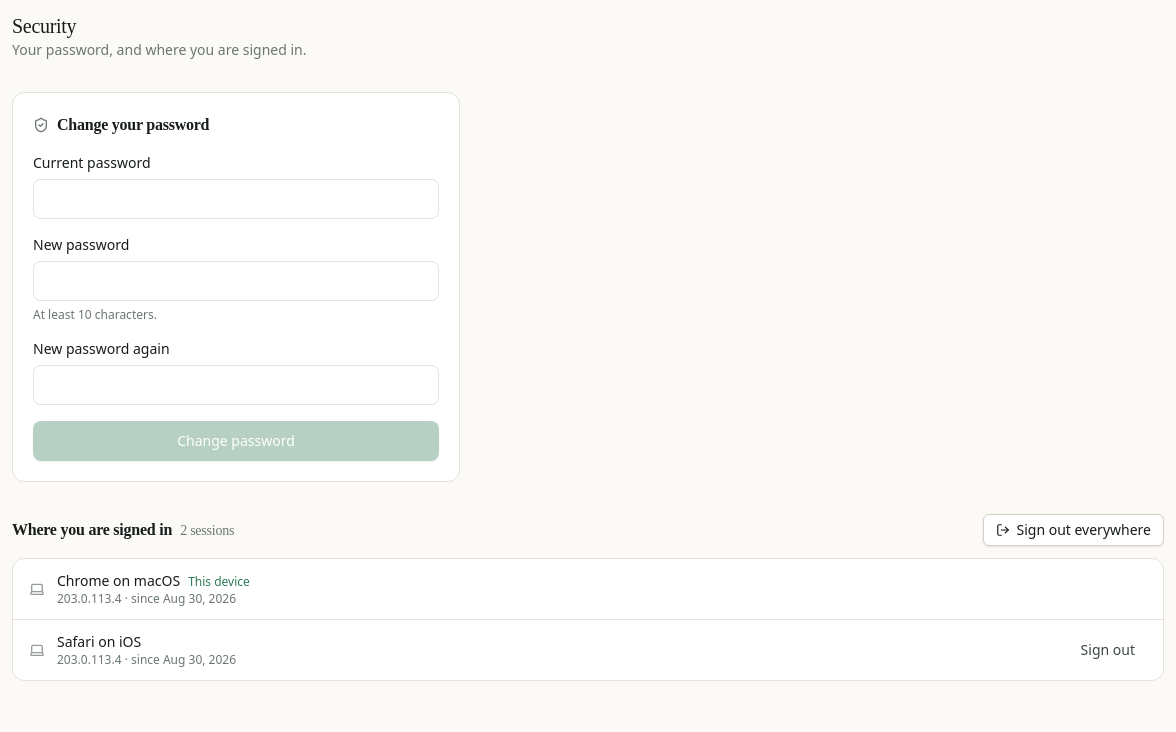
Scenario: SecurityPage › catches a mistyped confirmation before the server does
This screenshot has width=1176, height=732.
Step 1. Type "old-password" into the password field labelled "Current password" → (236,199), box [33,179,439,219]
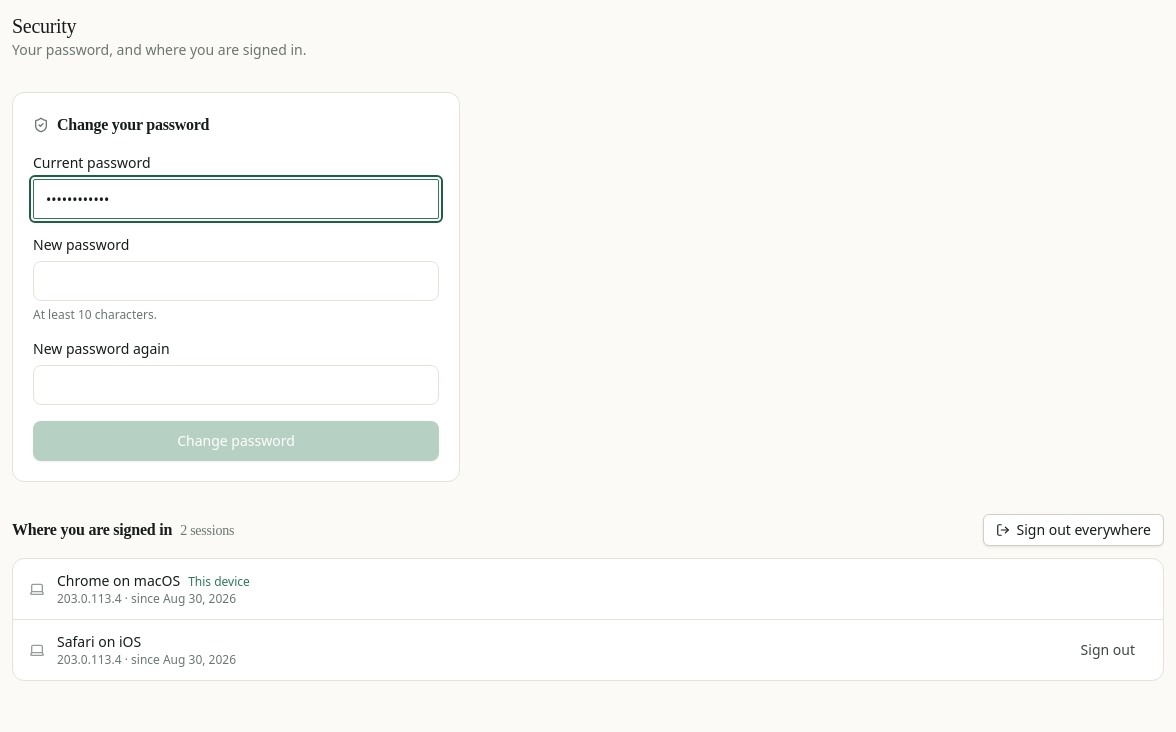
Step 2. Type "a-long-enough-one" into the password field labelled "New password" → (236,281), box [33,261,439,301]
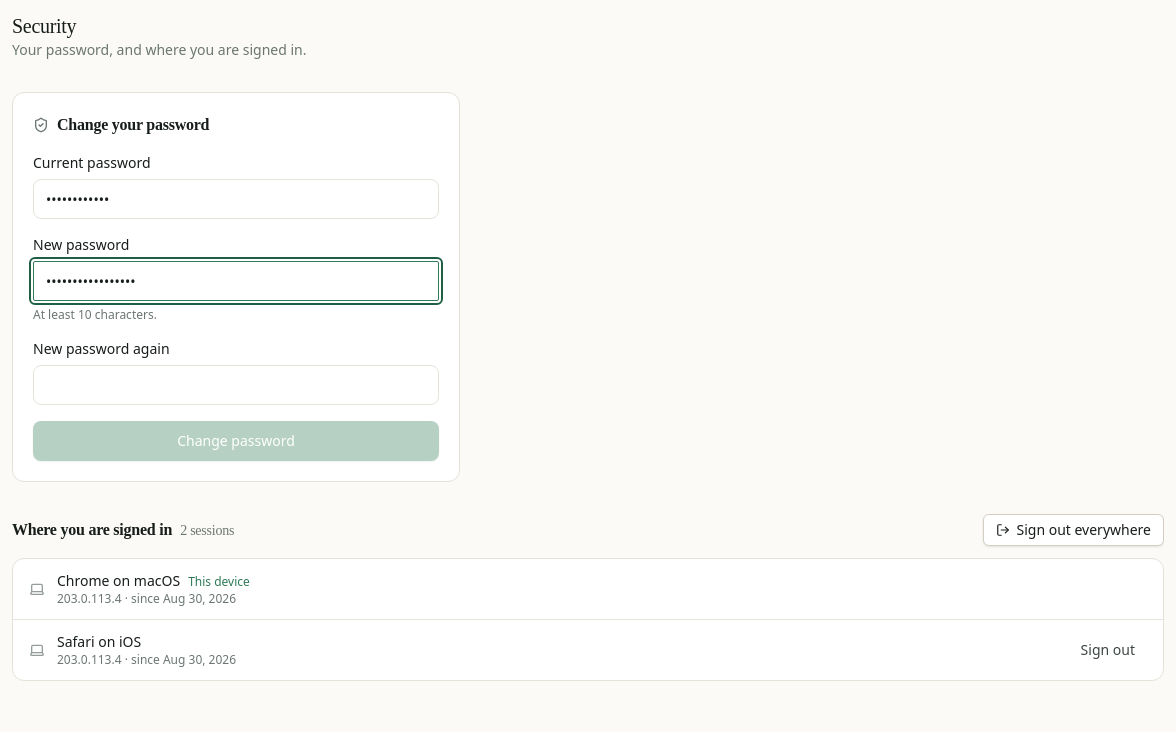
Step 3. Type "a-long-enough-two" into the password field labelled "New password again" → (236,385), box [33,365,439,405]
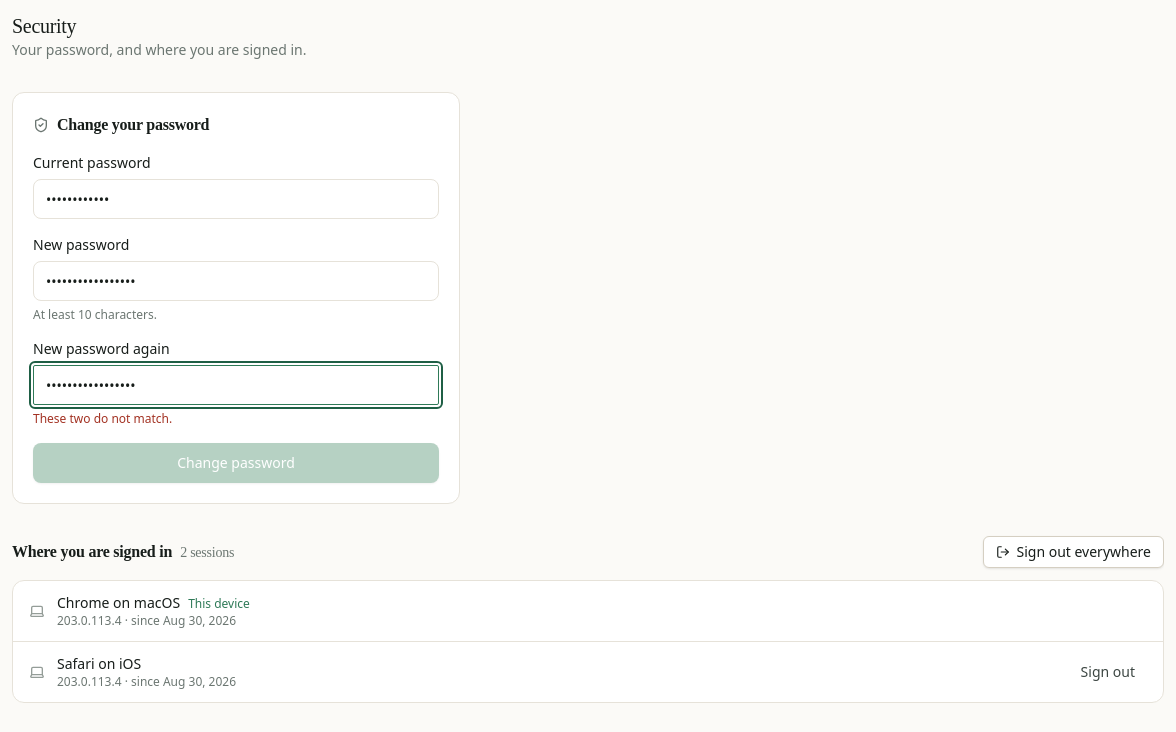
Check: the button "Change password" is disabled, box [33,443,439,483]
Check: the text "These two do not match." is shown, box [33,410,172,427]
